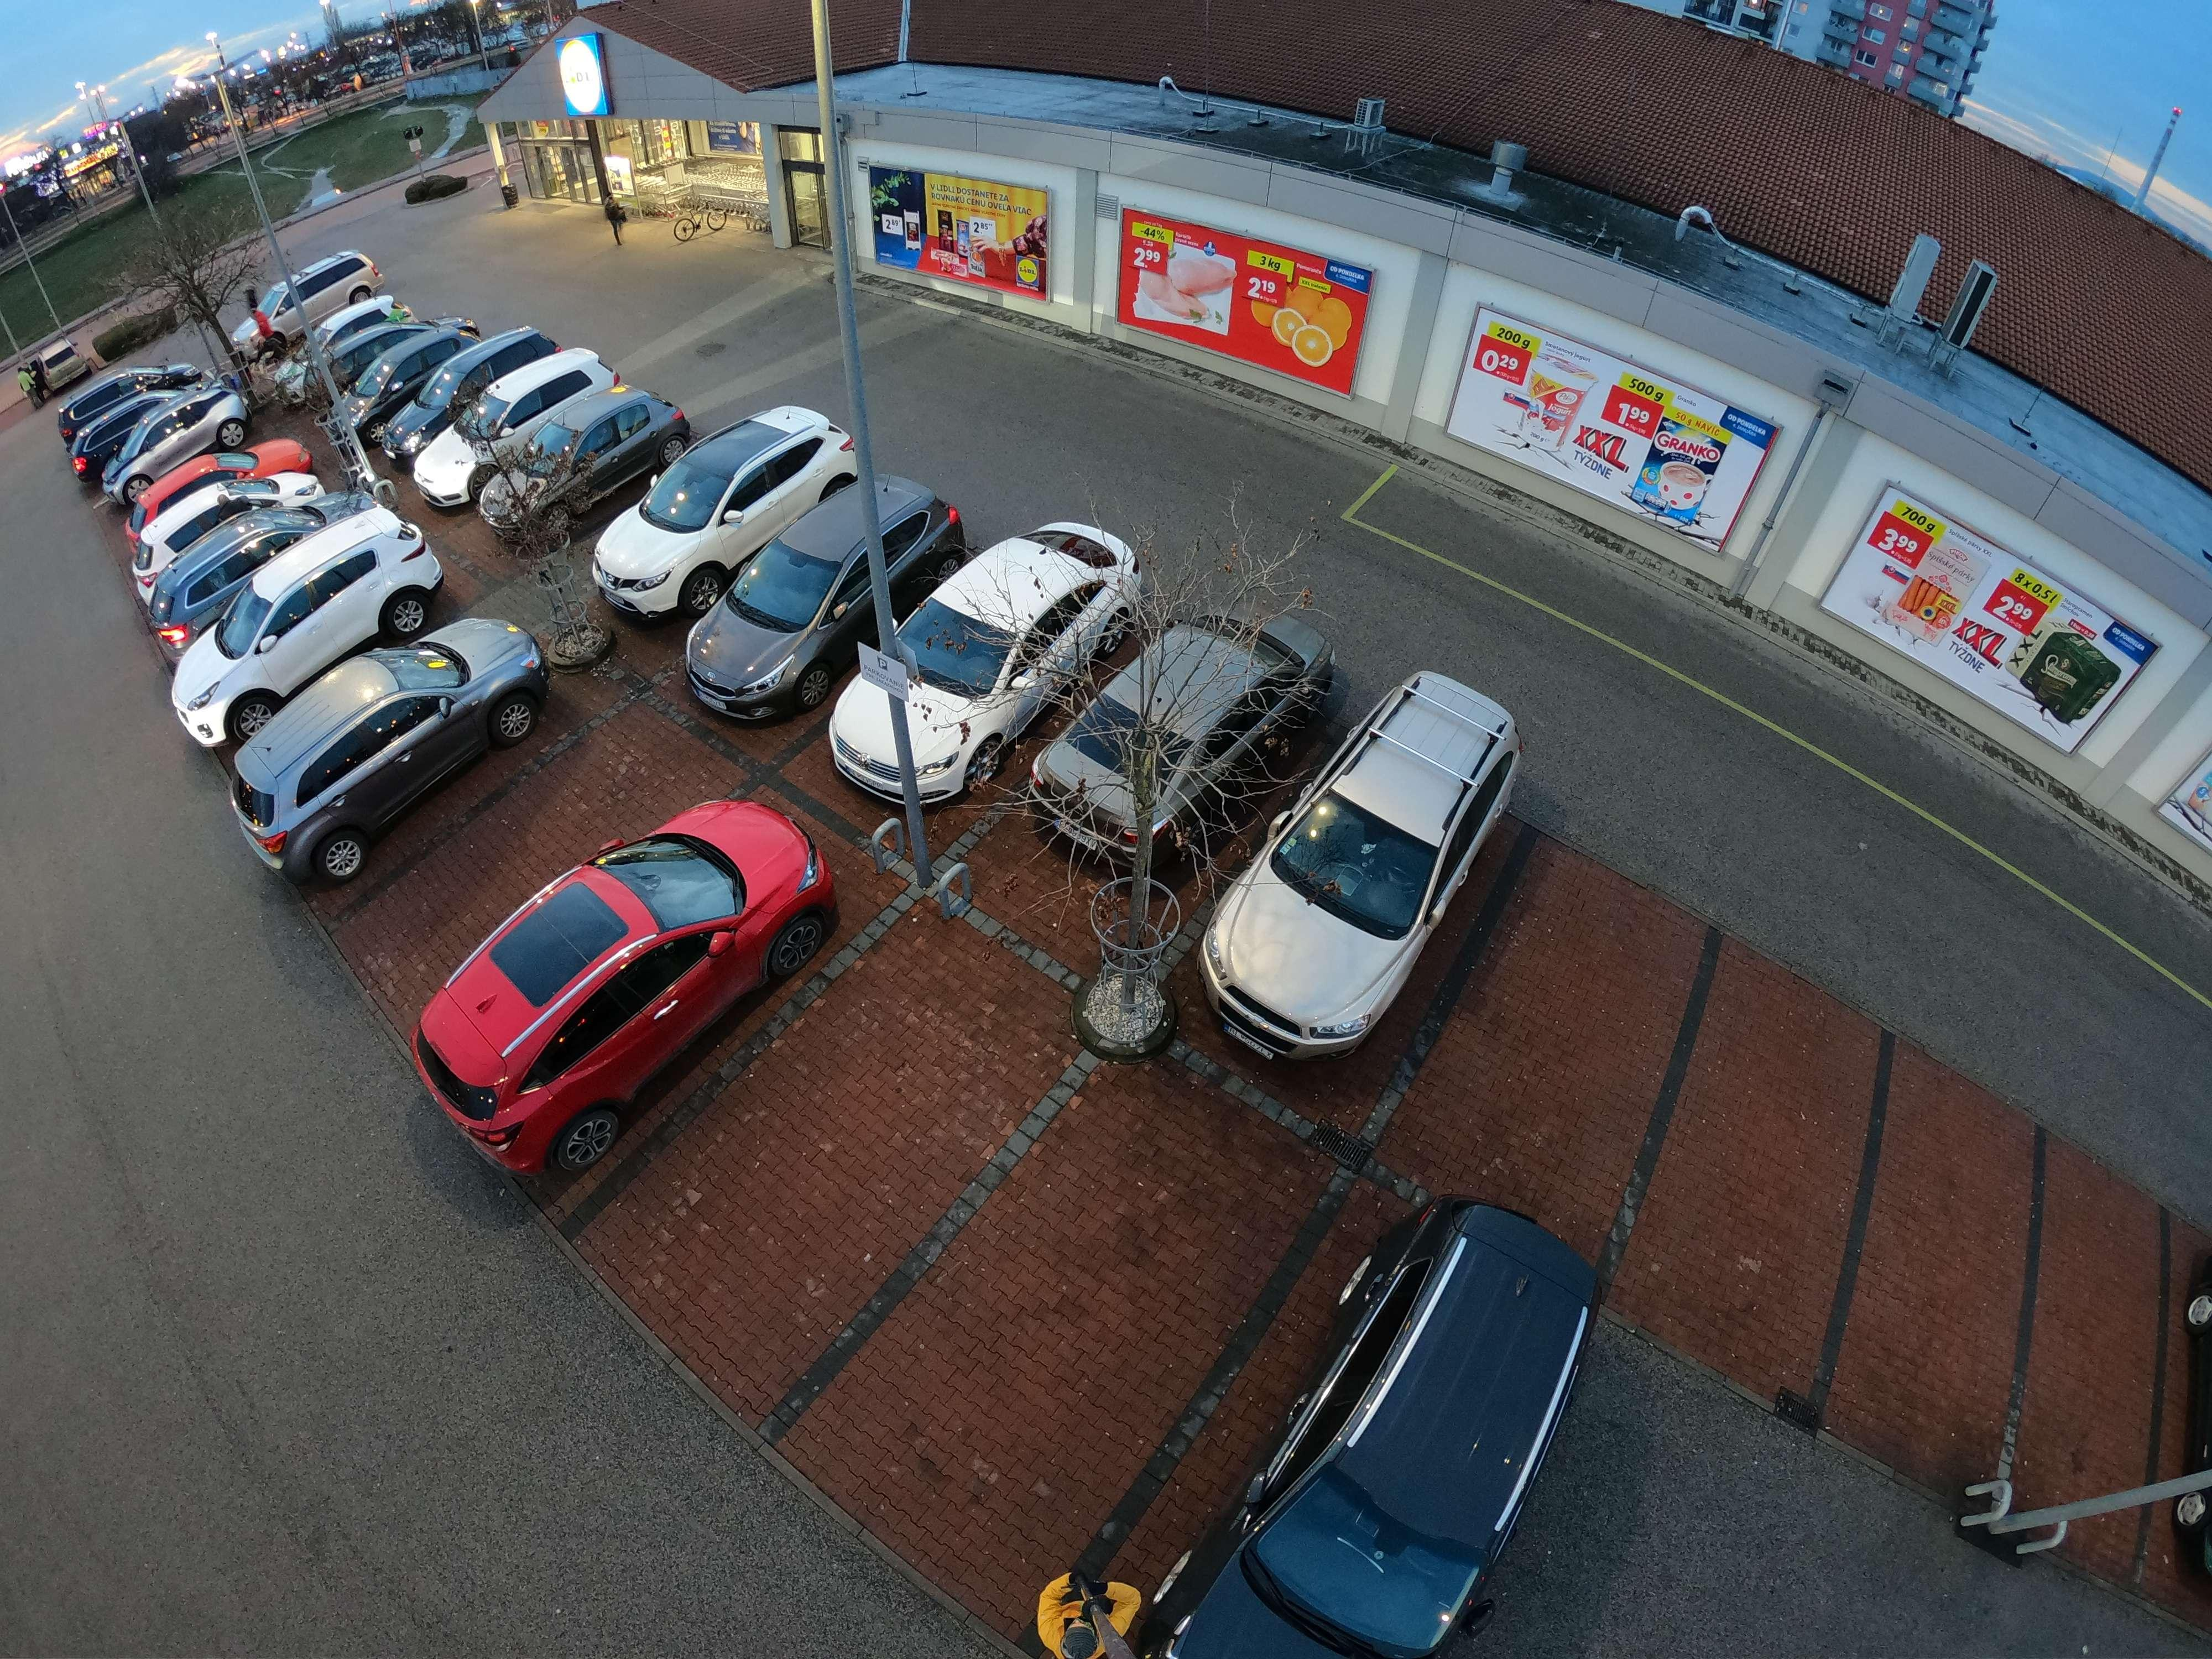empty: (1144, 1171, 1642, 1659), (1209, 655, 1555, 1056), (435, 802, 846, 1136), (867, 514, 1158, 789), (246, 629, 561, 842), (1035, 620, 1324, 850), (590, 408, 855, 610), (678, 481, 894, 709), (188, 533, 456, 695), (430, 347, 646, 483), (489, 396, 688, 535), (141, 486, 368, 605), (87, 376, 235, 467), (334, 315, 467, 410), (244, 263, 383, 343)
occupied: (953, 1180, 1242, 1398), (752, 1009, 1031, 1199), (1848, 1173, 2040, 1399), (1672, 1065, 1869, 1255), (2013, 1216, 2168, 1457), (1458, 953, 1676, 1114), (442, 788, 618, 889)
